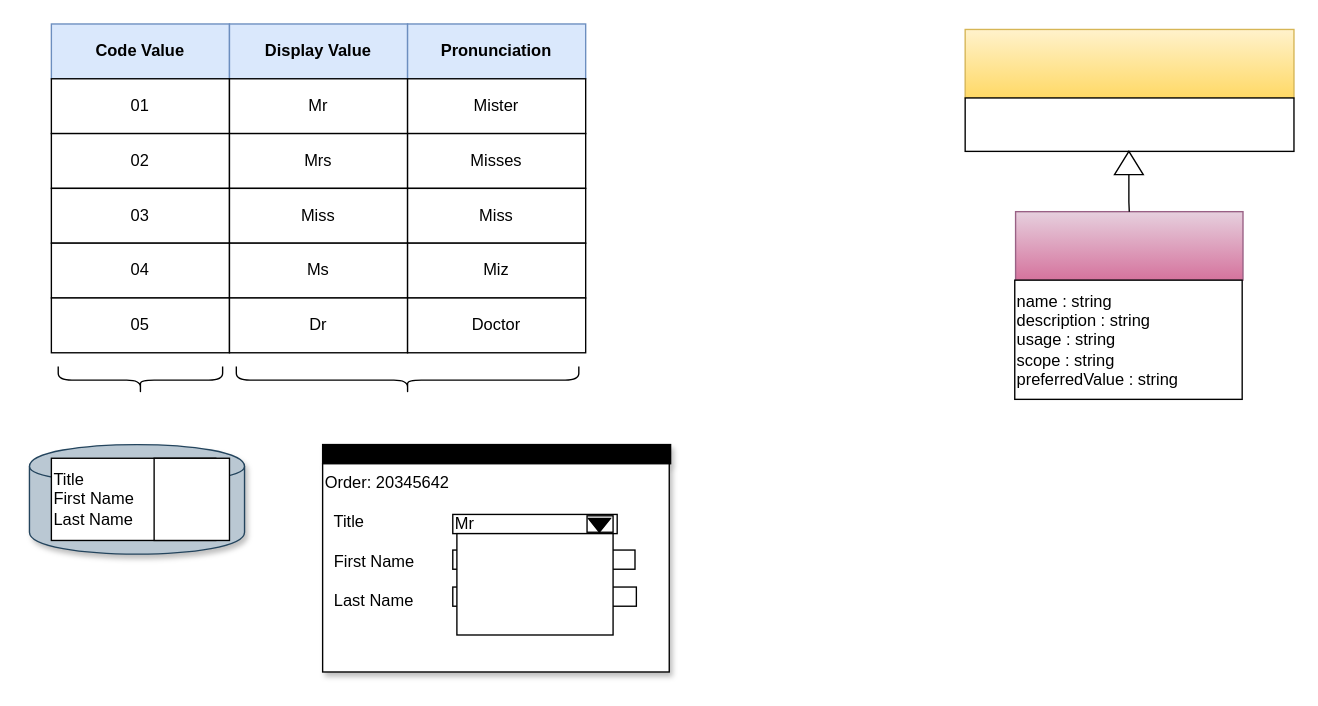
This 1318x706 diagram has some shape labels left out. The centre of each missing label's shape, as x and y in pixels:
"01 Alistair Steiff" belongs at point 191,498.
"Displayed" belongs at point 407,379.
"Mr (Mister) Mrs (Misses) Miss (Miss) Ms (Miz) Dr (Doctor)" belongs at point 534,583.
"qualifiedName : string additionalProperties : map<string, string>" belongs at point 1129,124.
"Stored" belongs at point 140,379.
"«entity» Referenceable" belongs at point 1129,63.
"«entity» ValidValueDefinition" belongs at point 1128,245.
